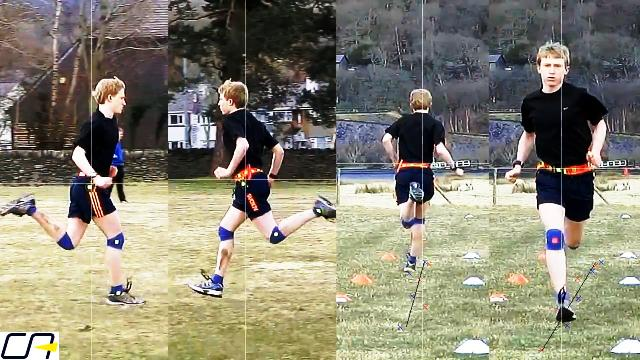berlari: (182, 75, 336, 302), (3, 72, 148, 312), (505, 32, 617, 326), (382, 78, 464, 280)
